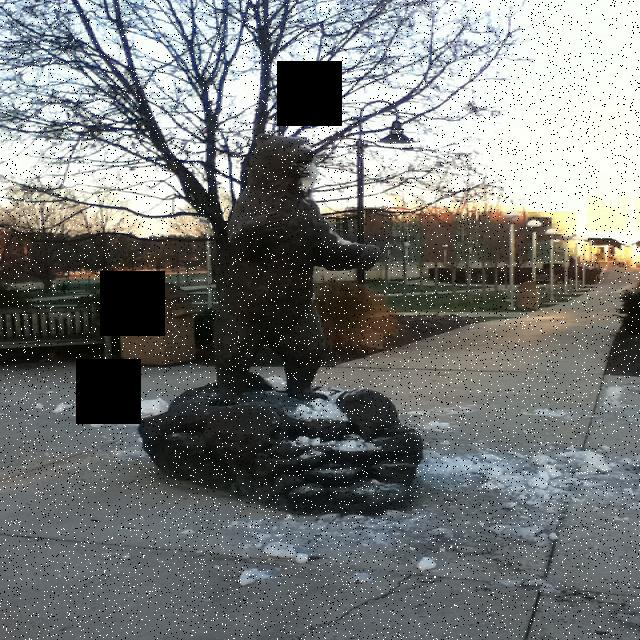Bear: (214, 128, 382, 406)
